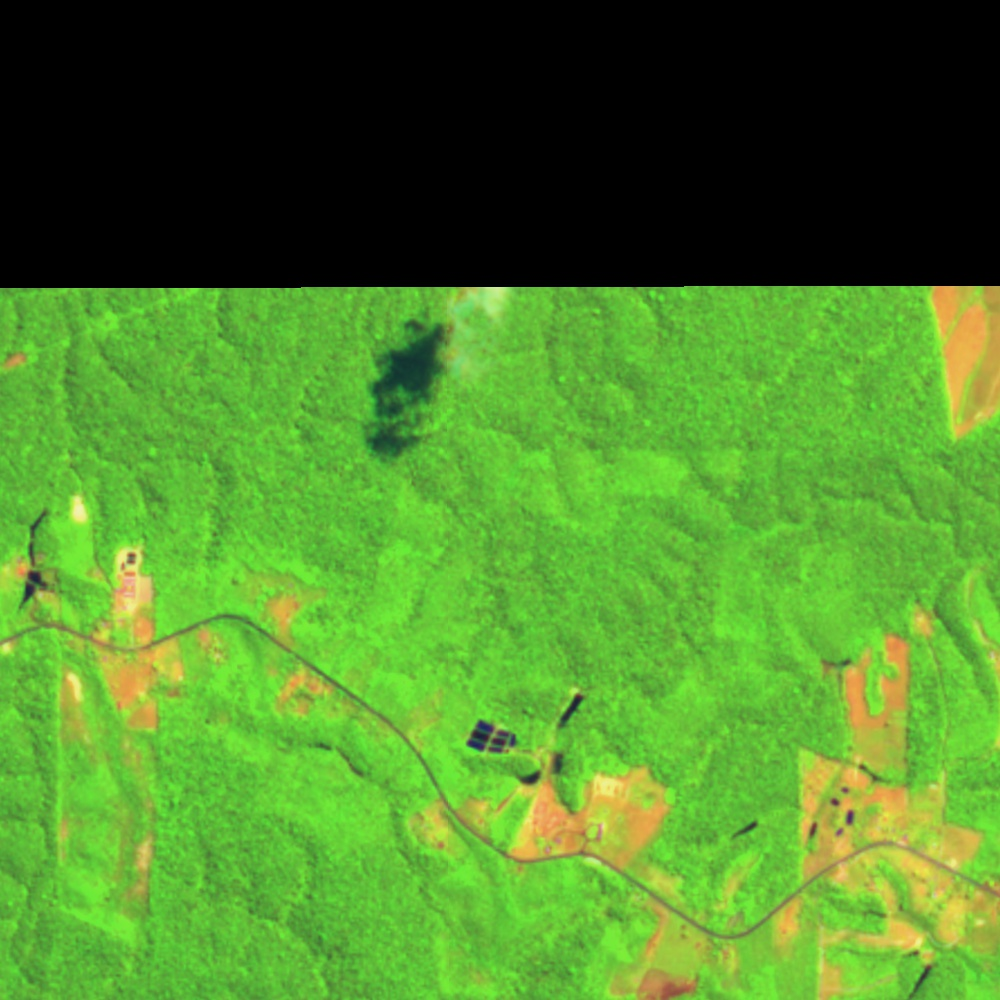legal: (794, 740, 1000, 1000), (505, 747, 680, 867), (85, 545, 190, 734), (606, 868, 745, 1000), (824, 632, 913, 780), (930, 285, 1000, 441), (239, 561, 329, 644), (114, 739, 152, 916), (711, 815, 766, 931), (11, 508, 62, 615), (54, 664, 101, 753), (961, 578, 1000, 678), (277, 665, 350, 718), (406, 797, 458, 853), (459, 793, 504, 844), (773, 893, 805, 954), (463, 721, 518, 755), (913, 594, 940, 647), (196, 626, 229, 662), (557, 688, 588, 726), (1, 343, 38, 371), (57, 801, 72, 868), (67, 491, 92, 526), (1, 633, 20, 652)
